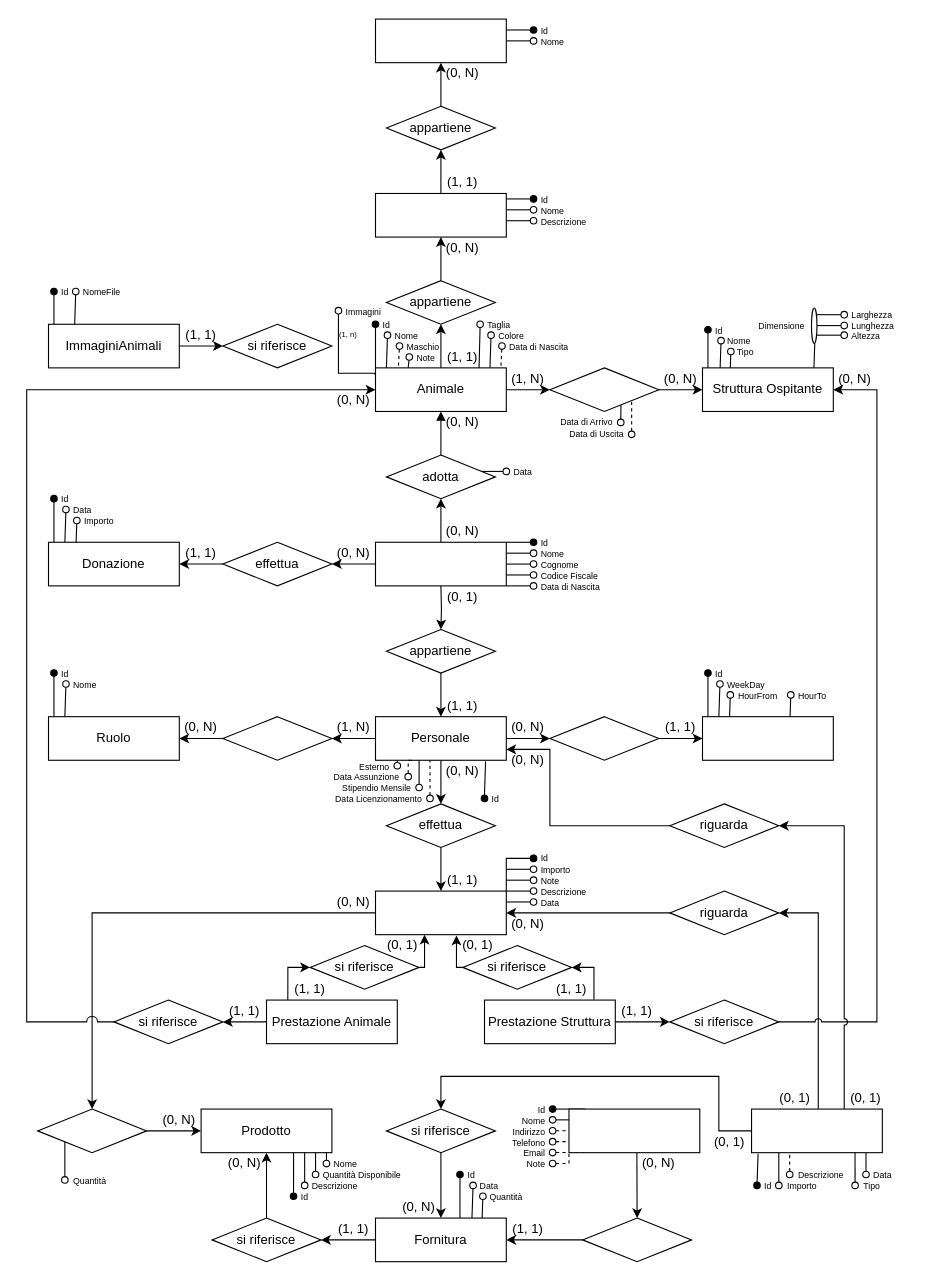
This 950x1281 diagram has some shape labels left out. The centre of each missing label's shape, as x and y in pixels:
"fornisce" goes at point 637,1239.
"Fornitore" goes at point 634,1130.
"Orario di Lavoro" goes at point 767,738.
"Prestazione" goes at point 440,912.
"Razza" goes at point 440,214.
"ricopre" goes at point 277,738.
"risiede" goes at point 604,389.
"rispetta" goes at point 604,738.
"Specie" goes at point 440,40.
"Storico Spese" goes at point 816,1130.
"Utente" goes at point 440,563.
"utilizza" goes at point 92,1130.
